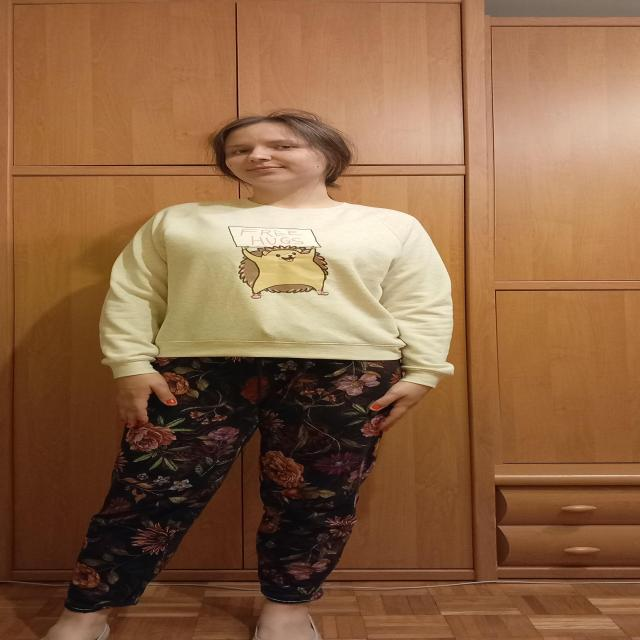pants: (63, 357, 404, 614)
sweater: (98, 198, 455, 388)
